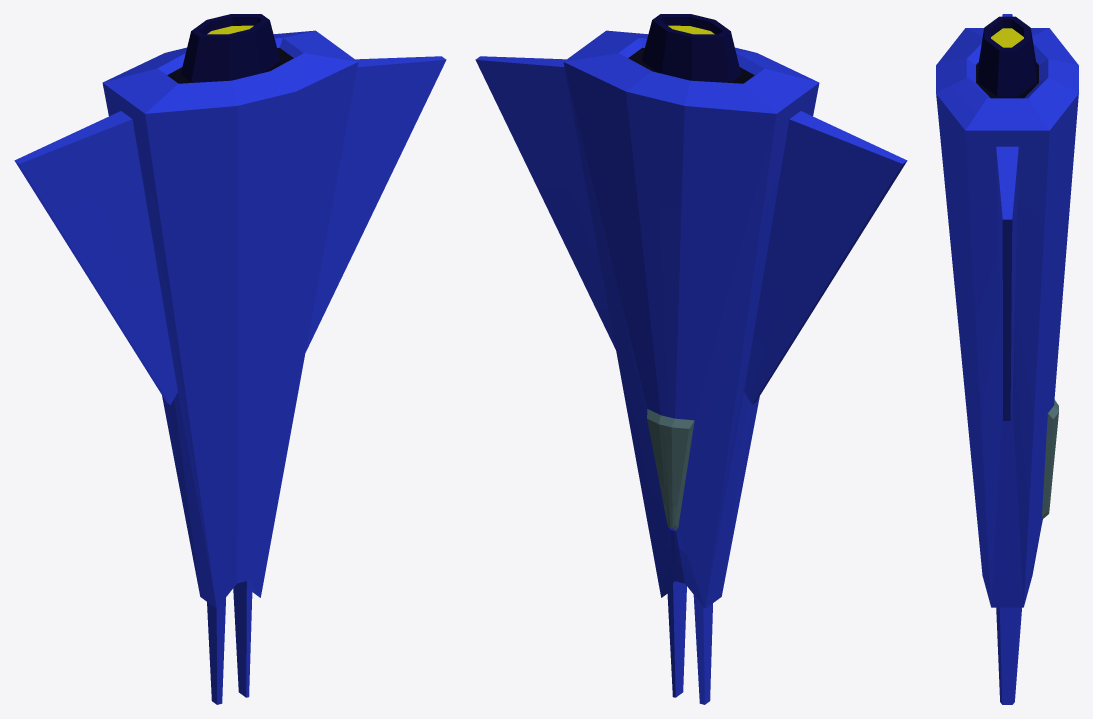
File: playership.fbx
3 renders of one model, left to right at view 1: azimuth 30°, elevation 25°; view 2: azimuth 150°, elevation 25°; view 3: azimuth 270°, elevation 25°, orthographic.
Visible parts, largest first — view 1: playership; view 2: playership; view 3: playership.
Part boxes in pixels (bbox=[...]): playership: bbox=[14, 14, 446, 704]; playership: bbox=[475, 14, 907, 704]; playership: bbox=[936, 14, 1078, 704].
Bounding box in the file's own units: 201 × 302 × 58.96.
